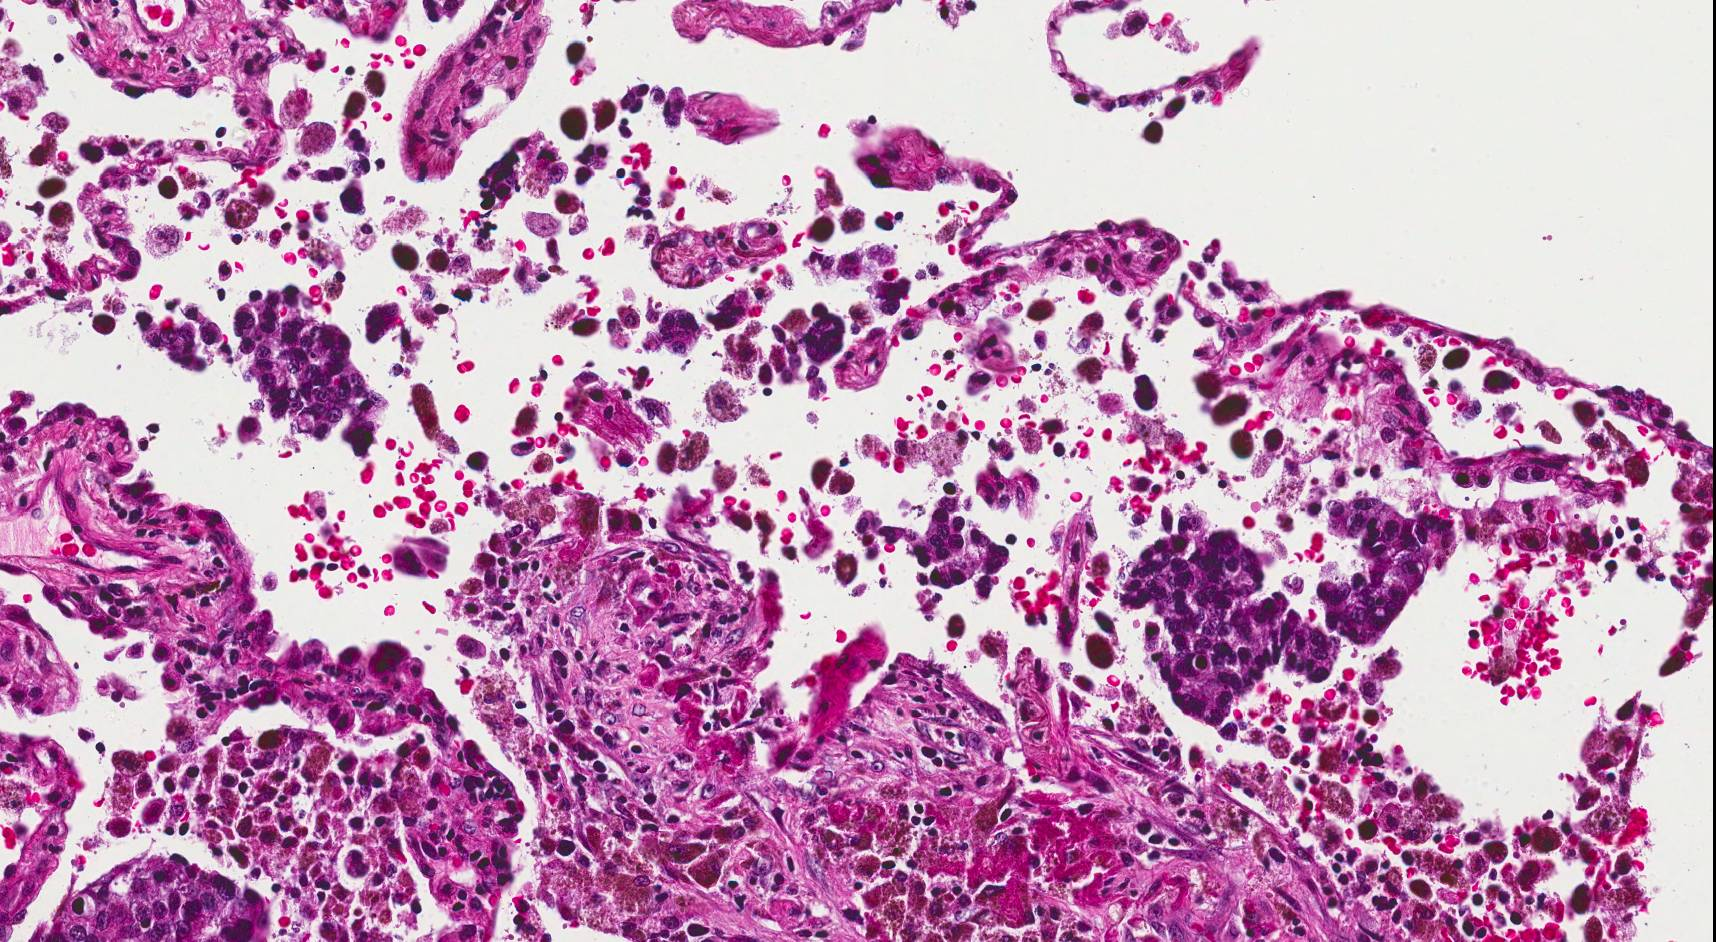stas: (1116, 524, 1347, 724), (230, 289, 388, 457), (1316, 490, 1429, 650), (877, 489, 1012, 600), (142, 312, 214, 379)
